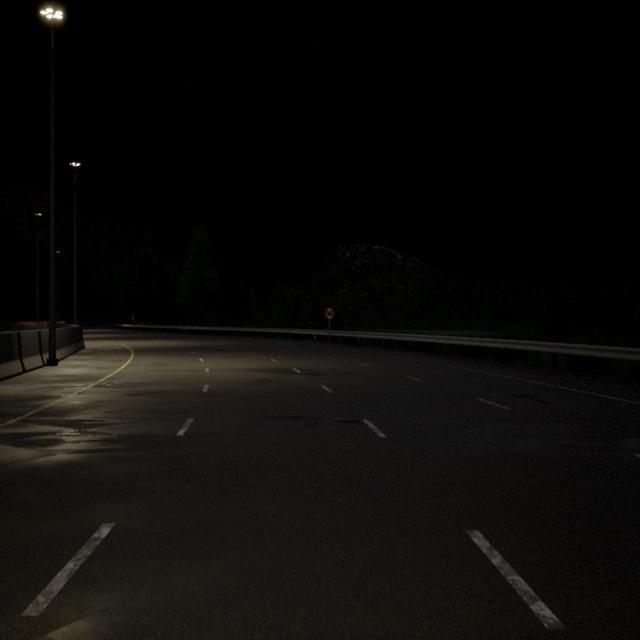Traffic_Signs: (325, 308, 334, 319), (132, 315, 134, 320)
